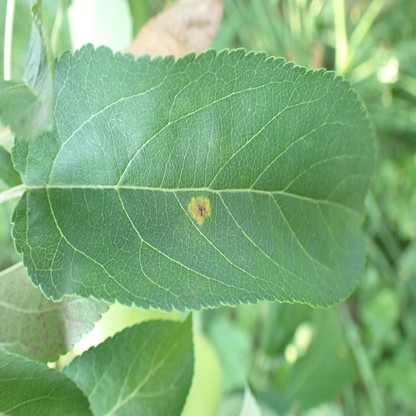rust: (189, 197, 212, 224)
